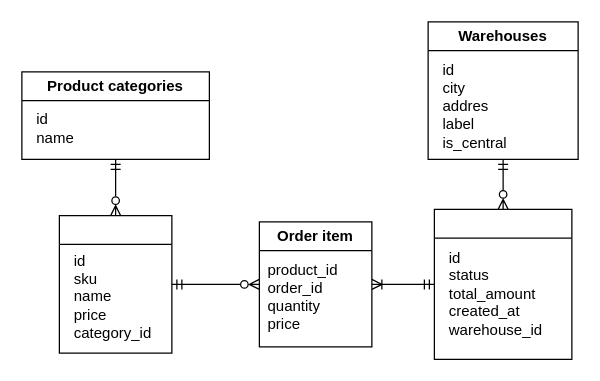
Some shapes in this 600 by 381 pixel diagram are drawn without their labels. The box of each missing label's shape, as (x1, y1, x2, y2) in pixels:
Orders: (433, 208, 572, 359)
Products: (58, 214, 172, 353)
